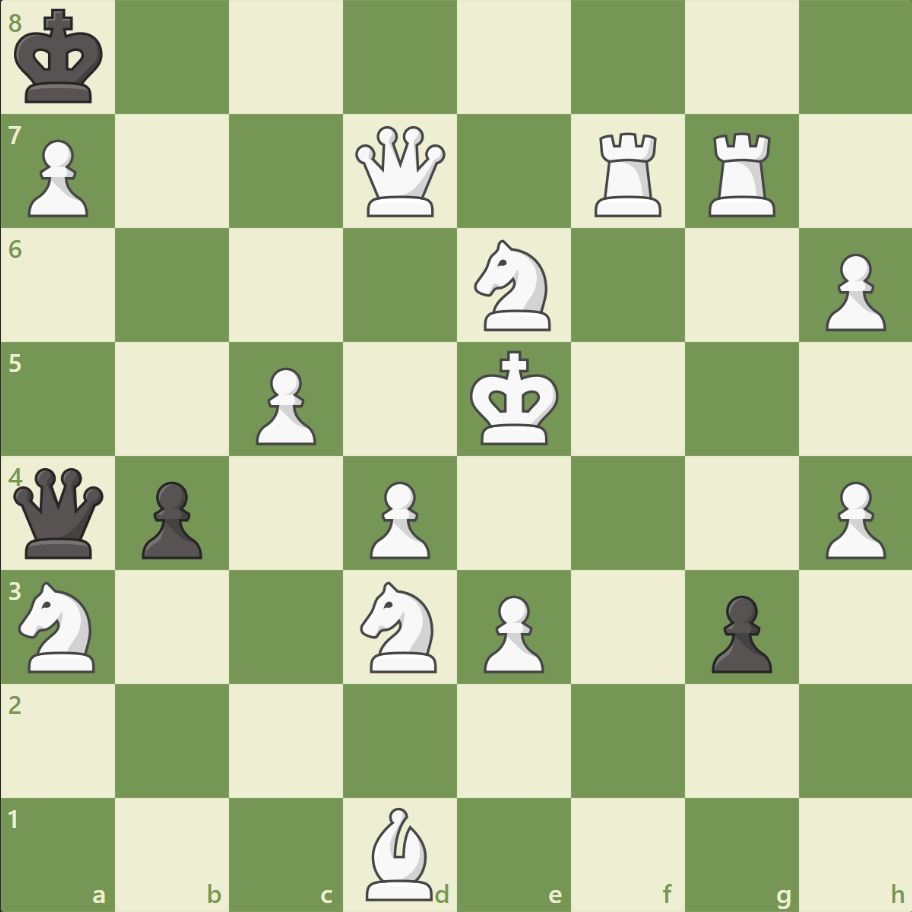B: (358, 801, 442, 904)
K: (465, 344, 565, 452)
N: (351, 575, 449, 677), (465, 234, 562, 337), (11, 575, 108, 677)
P: (20, 132, 95, 223), (247, 359, 322, 450), (474, 586, 549, 677), (815, 246, 889, 337), (361, 473, 435, 564), (815, 473, 889, 564)
Q: (351, 122, 450, 222)
R: (587, 125, 670, 222), (700, 125, 783, 222)
k: (11, 4, 111, 112)
p: (133, 473, 208, 564), (701, 586, 776, 677)
q: (10, 463, 109, 562)
